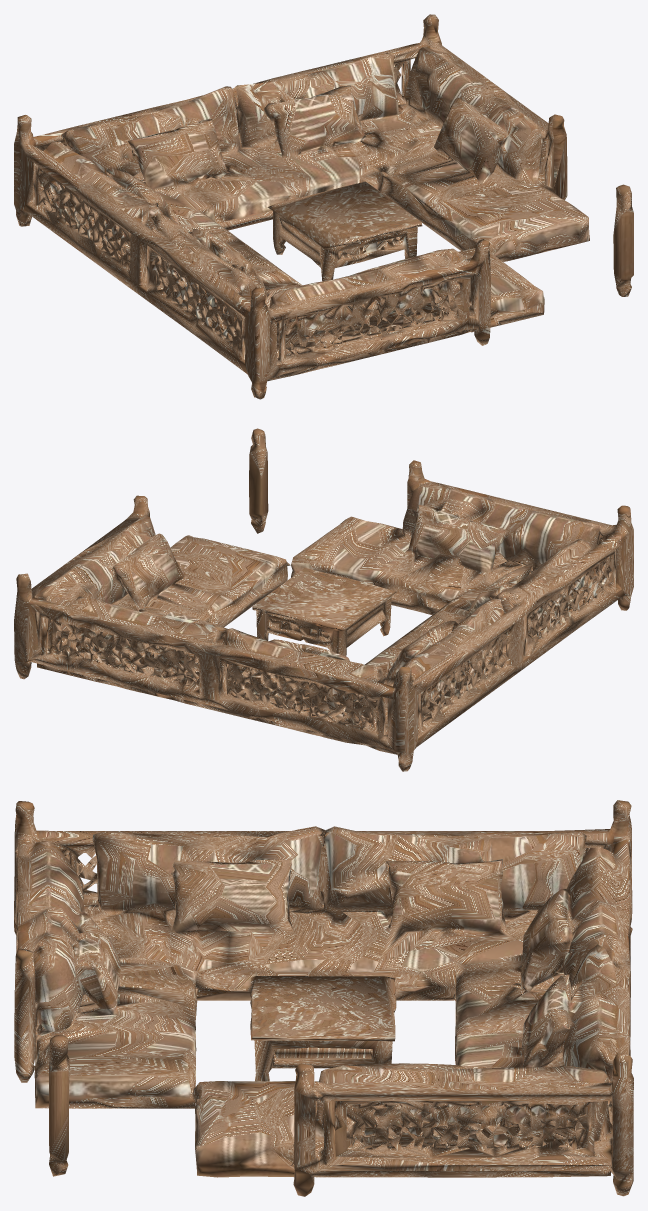
The model's file is majlisset_lod1.glb.
3 views of the same model, one above another, from view 1: azimuth 30°, elevation 25°; view 2: azimuth 150°, elevation 25°; view 3: azimuth 270°, elevation 25° (orthographic). The views are drawn at different scales.
Size of the model in its own units: 1.9 by 0.4758 by 1.9.
1 material, 1 textured.
